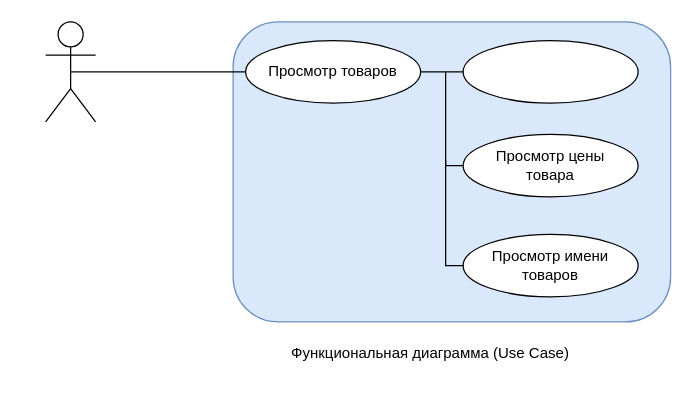
Image size: 693x393. Some labels were removed from this diagram. Here are the shapes that lost their labels. From the top down, the centre of each, then its label:
[70,71]: Пользователь
[550,71]: Просмотр количества товаров в наличии
